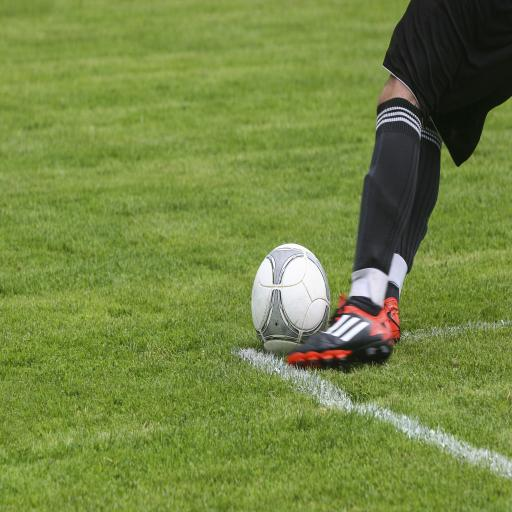shoe: (287, 296, 393, 367), (383, 297, 400, 342)
